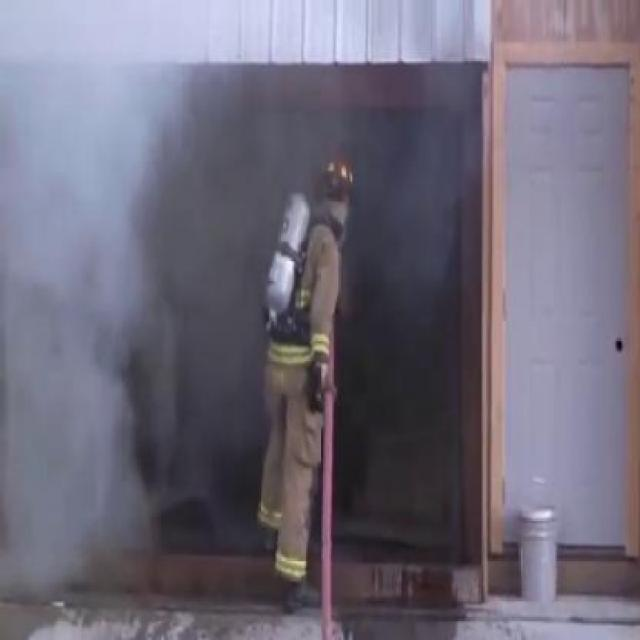smoke: (9, 35, 186, 574)
